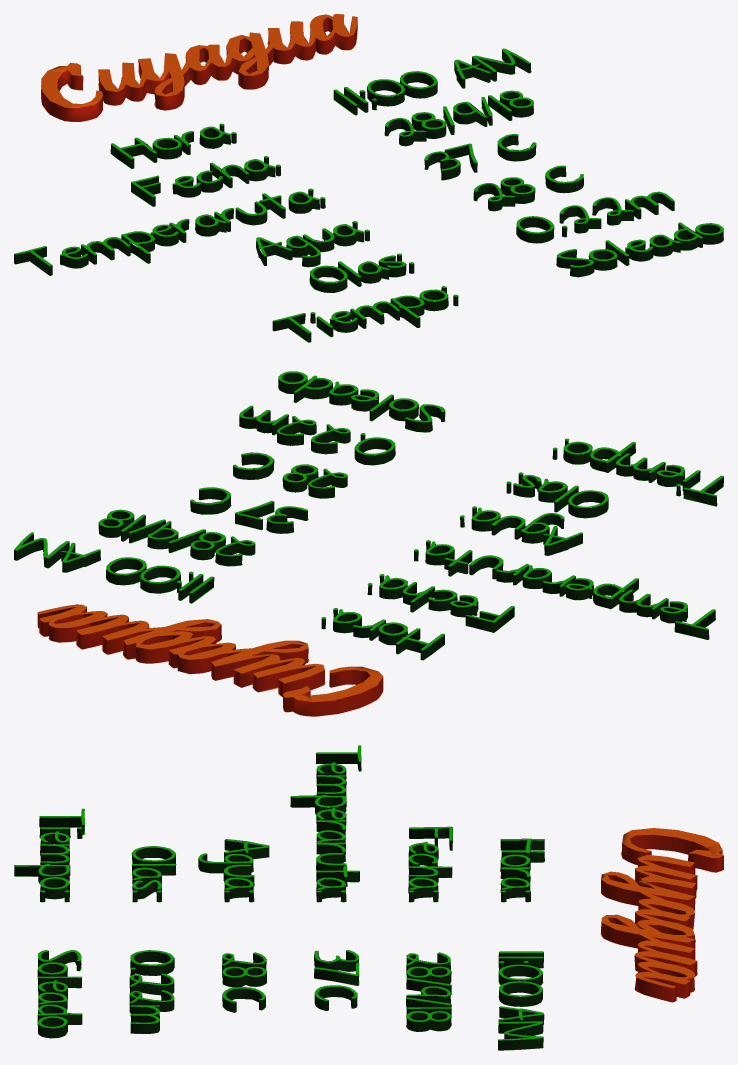
Rendered from CuyaguaL.obj.
3 views of the same model, one above another, from view 1: azimuth 30°, elevation 25°; view 2: azimuth 150°, elevation 25°; view 3: azimuth 270°, elevation 25° (orthographic). The views are drawn at different scales.
Visible parts, largest first — view 1: Text.007, Text.000; view 2: Text.007, Text.000; view 3: Text.007, Text.000.
Part boxes in pixels (x1,y1,x2,y2): Text.007: (14,48,723,342); Text.000: (41,14,357,121); Text.007: (14,371,723,660); Text.000: (37,604,383,716); Text.007: (14,745,544,1050); Text.000: (600,828,723,1002).
Bounding box in the file's own units: 7.59 × 0.2026 × 7.7.
